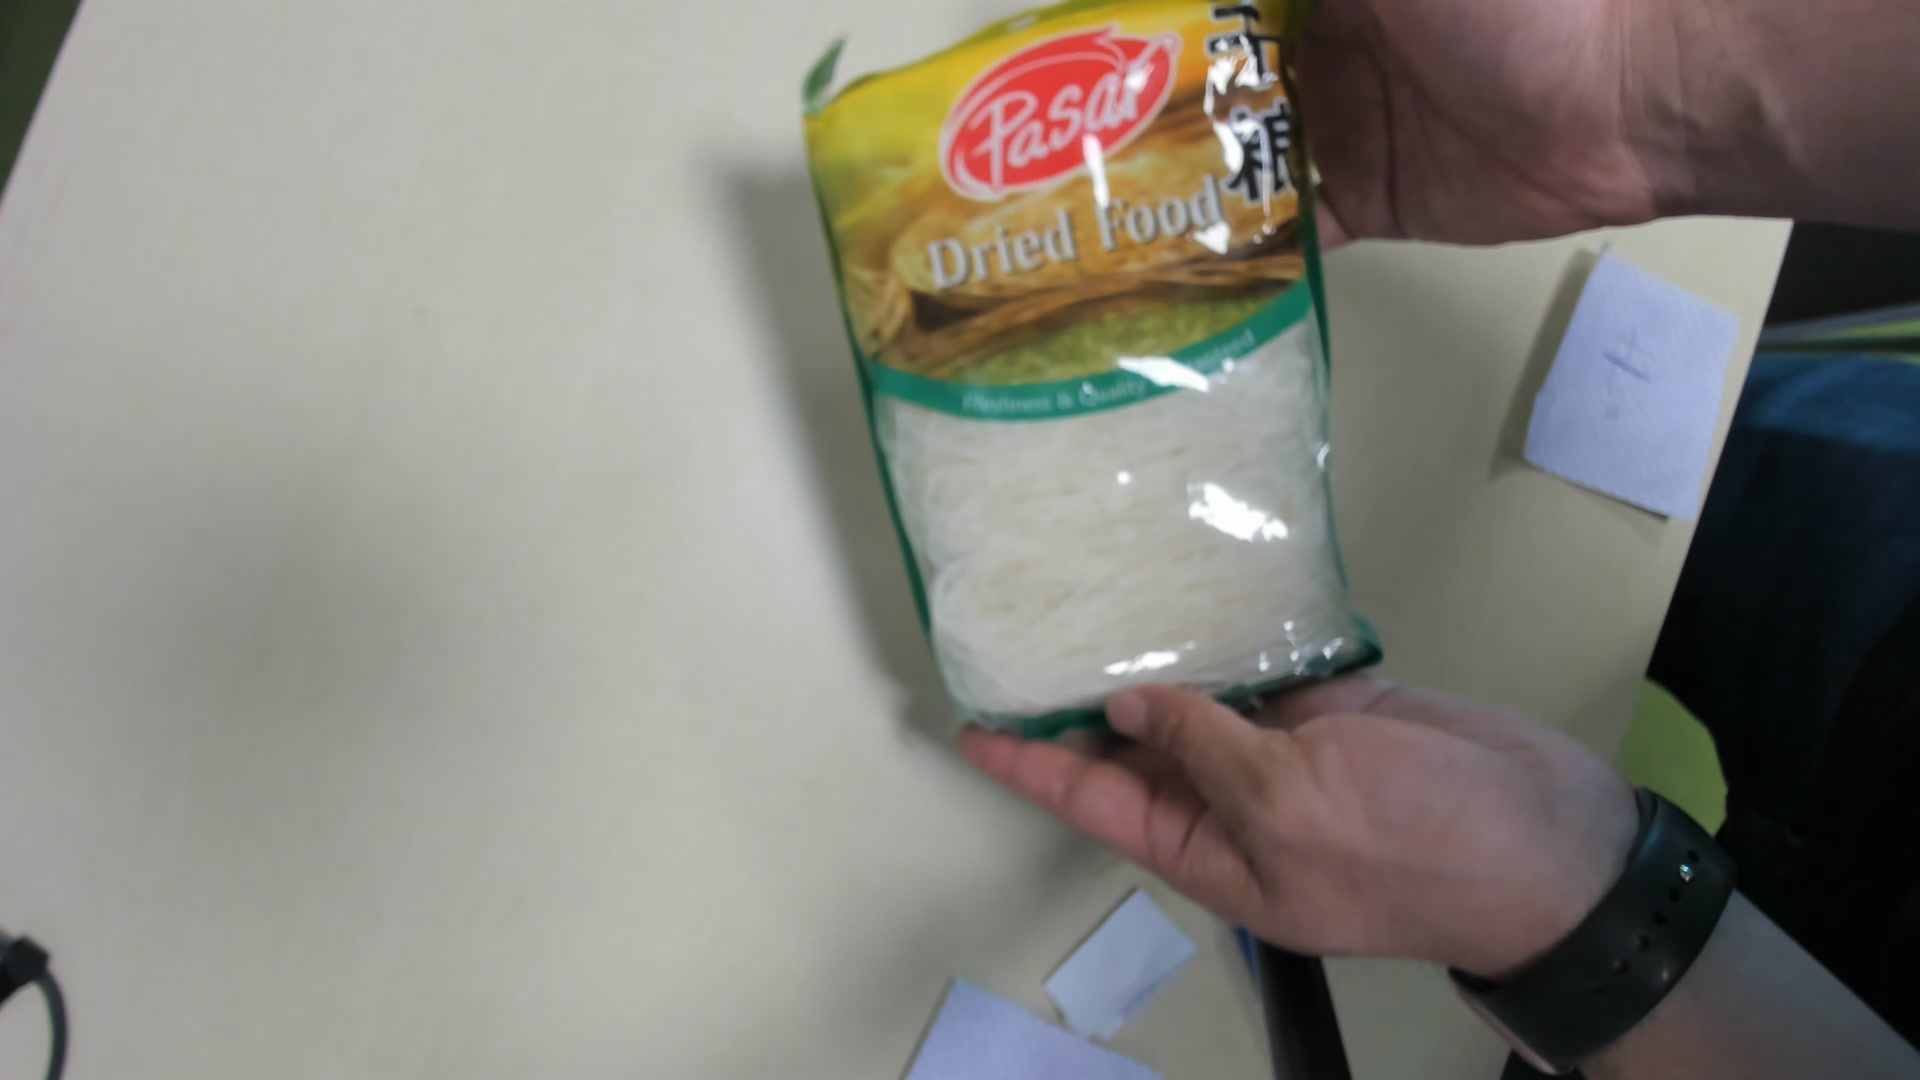BeeHoonVermicelli_100-199g_NonHalal_NonHealthy: (800, 18, 1387, 745)
